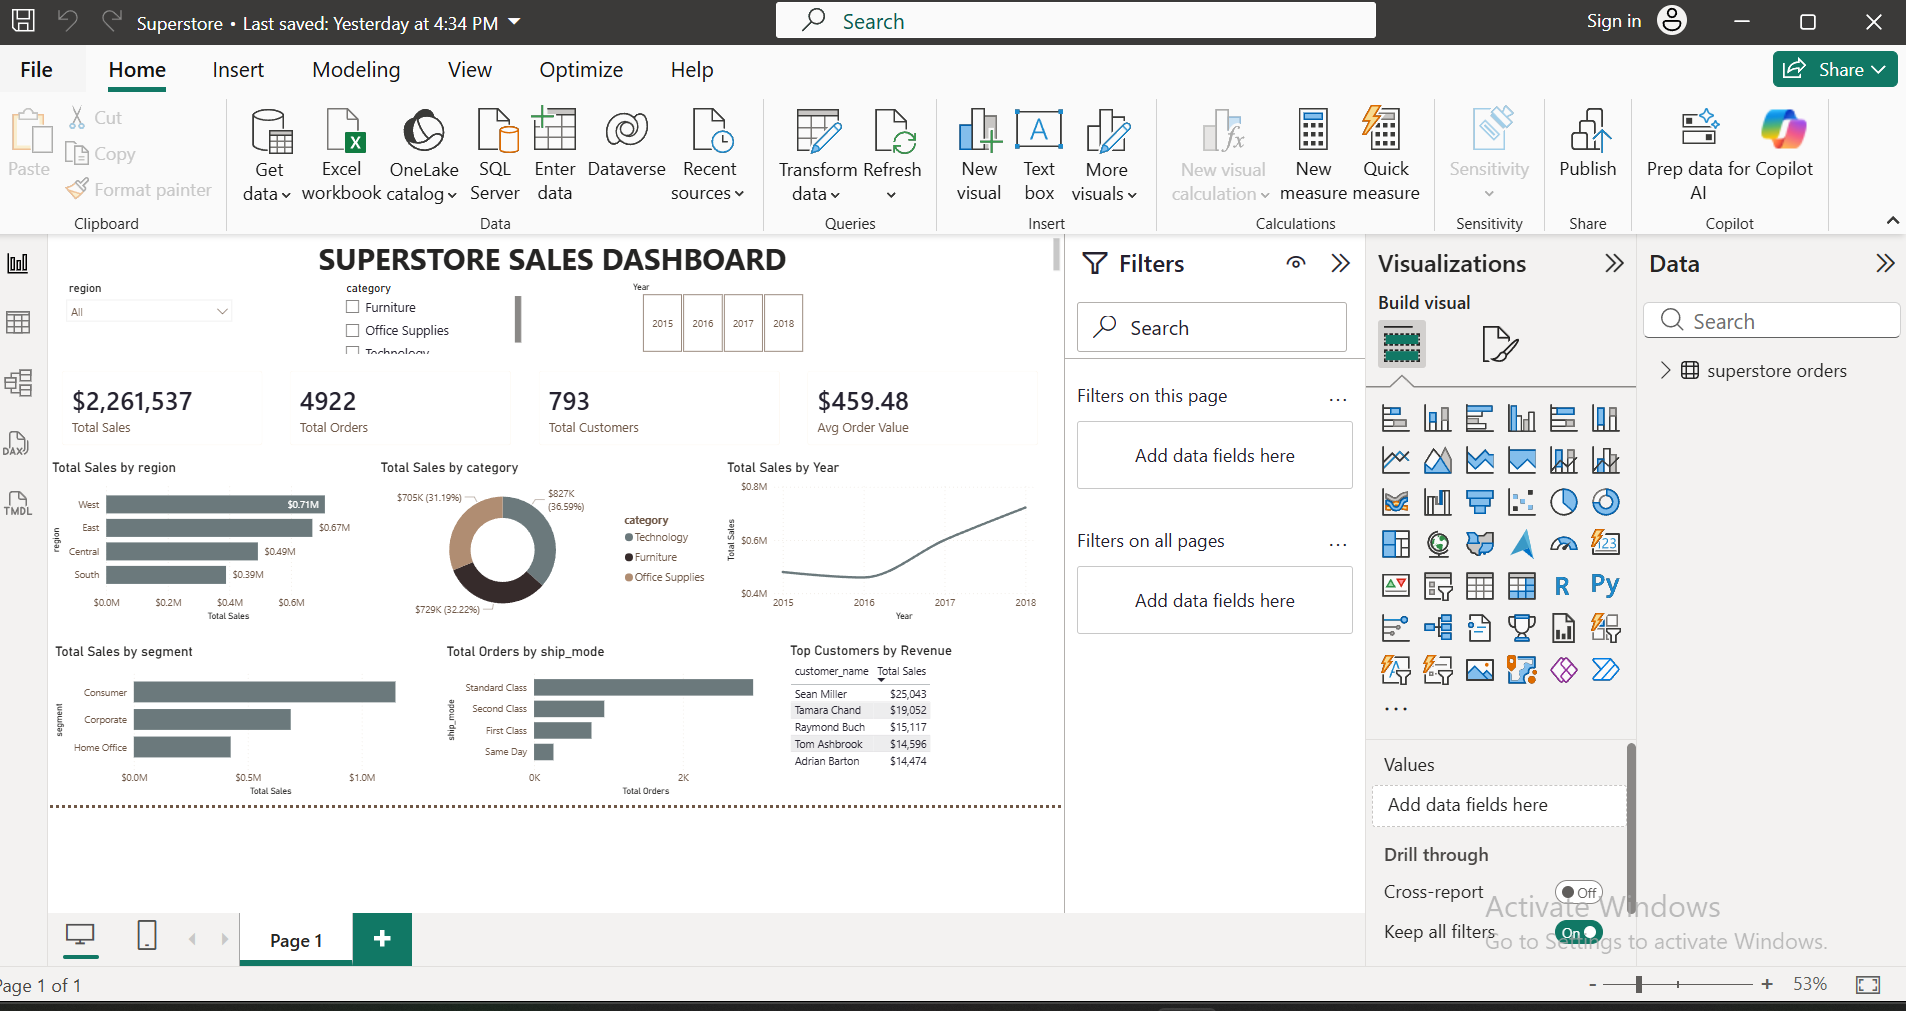

The page's visual inventory and layout, read from the dashboard file:
{"tool":"powerbi","page":{"name":"Page 1","canvas":[1280,720],"ordinal":0},"visuals":[{"type":"cardVisual","fields":{"Data":["superstore orders.Total Sales"]},"box":[0,154.3,287.2,128.5],"z":0},{"type":"cardVisual","fields":{"Data":["superstore orders.Avg Order Value"]},"box":[939.2,154.3,325,128.5],"z":1000},{"type":"cardVisual","fields":{"Data":["superstore orders.Total Orders"]},"box":[287.2,154.3,313.7,128.5],"z":2000},{"type":"cardVisual","fields":{"Data":["superstore orders.Total Customers"]},"box":[600.9,154.3,338.3,128.5],"z":3000},{"type":"textbox","box":[0,0,1279.4,54.8],"z":4000},{"type":"clusteredBarChart","fields":{"Category":["superstore orders.region"],"Y":["superstore orders.Total Sales"]},"box":[0,283.5,402.5,207.9],"z":5000},{"type":"donutChart","fields":{"Category":["superstore orders.category"],"Y":["superstore orders.Total Sales"]},"box":[412.9,283.5,427.1,207.9],"z":6000},{"type":"lineChart","fields":{"Category":["superstore orders.Year"],"Y":["superstore orders.Total Sales"]},"box":[850.4,283.5,398.7,207.9],"z":7000},{"type":"barChart","fields":{"Category":["superstore orders.segment"],"Y":["superstore orders.Total Sales"]},"box":[3.1,515.3,470.6,196.5],"z":8000},{"type":"clusteredBarChart","fields":{"Category":["superstore orders.ship_mode"],"Y":["superstore orders.Total Orders"]},"box":[497.7,515.3,408.2,196.5],"z":9000},{"type":"slicer","fields":{"Values":["superstore orders.region"]},"box":[13.2,54.8,228.7,105.8],"z":10000},{"type":"slicer","fields":{"Values":["superstore orders.category"]},"box":[362.8,54.8,238.1,100.2],"z":11000},{"type":"slicer","fields":{"Values":["superstore orders.Year"]},"box":[723.8,54.8,251.3,100.2],"z":12000},{"type":"tableEx","title":"Top Customers by Revenue","fields":{"Values":["superstore orders.customer_name","superstore orders.Total Sales"]},"box":[929.9,514.9,309,197],"z":13000}]}

Visuals, with their boxes on the page's 1280x720 design canvas (x1, y1, x2, y2). These are canvas units, not pixel positions in the 1906x1011 screenshot, which may show the page scaled, cropped or inside an application window:
cardVisual - superstore orders.Total Sales: {"left": 0, "top": 154, "right": 287, "bottom": 283}
cardVisual - superstore orders.Avg Order Value: {"left": 939, "top": 154, "right": 1264, "bottom": 283}
cardVisual - superstore orders.Total Orders: {"left": 287, "top": 154, "right": 601, "bottom": 283}
cardVisual - superstore orders.Total Customers: {"left": 601, "top": 154, "right": 939, "bottom": 283}
textbox: {"left": 0, "top": 0, "right": 1279, "bottom": 55}
clusteredBarChart - superstore orders.region x superstore orders.Total Sales: {"left": 0, "top": 284, "right": 402, "bottom": 491}
donutChart - superstore orders.category x superstore orders.Total Sales: {"left": 413, "top": 284, "right": 840, "bottom": 491}
lineChart - superstore orders.Year x superstore orders.Total Sales: {"left": 850, "top": 284, "right": 1249, "bottom": 491}
barChart - superstore orders.segment x superstore orders.Total Sales: {"left": 3, "top": 515, "right": 474, "bottom": 712}
clusteredBarChart - superstore orders.ship_mode x superstore orders.Total Orders: {"left": 498, "top": 515, "right": 906, "bottom": 712}
slicer - superstore orders.region: {"left": 13, "top": 55, "right": 242, "bottom": 161}
slicer - superstore orders.category: {"left": 363, "top": 55, "right": 601, "bottom": 155}
slicer - superstore orders.Year: {"left": 724, "top": 55, "right": 975, "bottom": 155}
"Top Customers by Revenue" tableEx: {"left": 930, "top": 515, "right": 1239, "bottom": 712}
